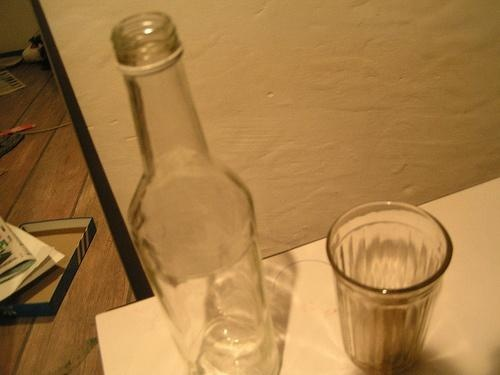bottle: (109, 11, 281, 375)
